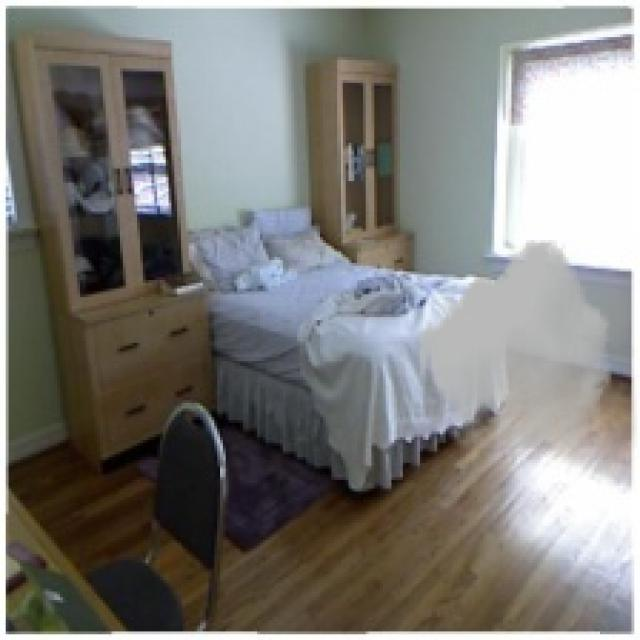smoke: (414, 240, 637, 449)
